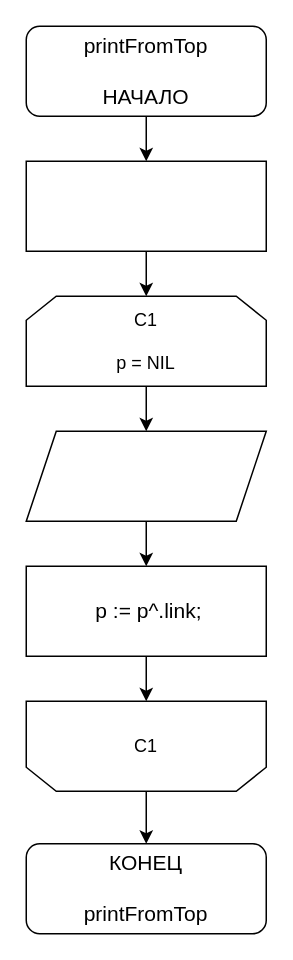
Some shapes in this 293 by 960 pixel diagram are drawn without their labels. Each missing label, with the centre of its shape:
"p := top;" belongs at [145,205].
"write(p^.inf, ' ');" belongs at [145,475].
